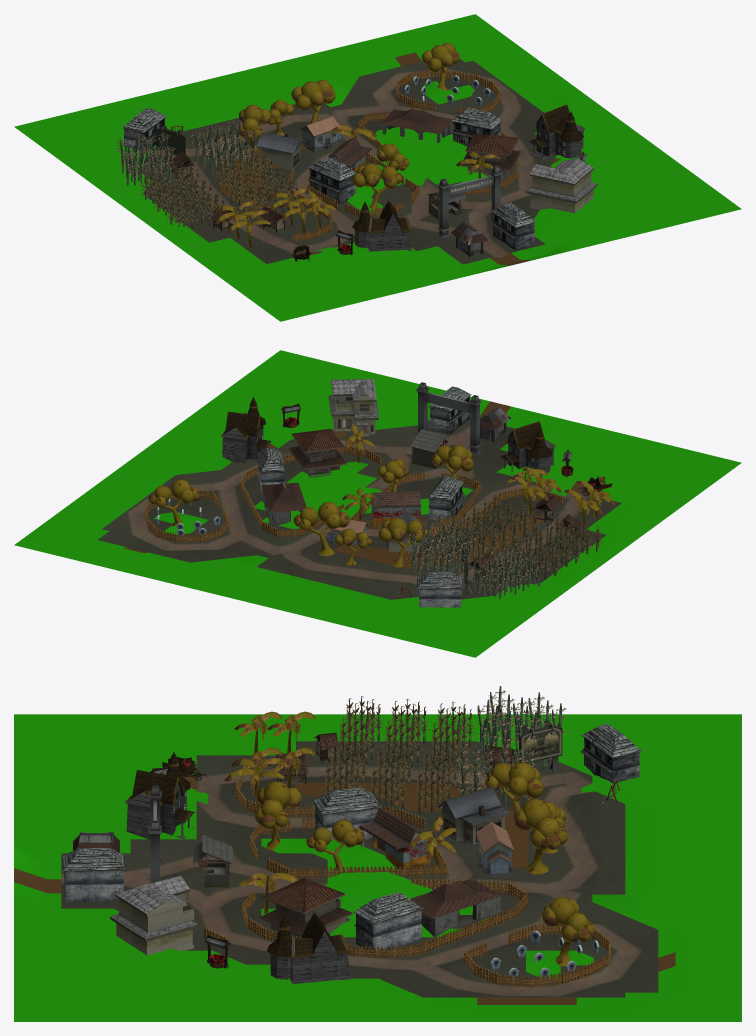
Rendered from DesaMap.fbx.
The picture shows the model from 3 angles, top to bottom: view 1: azimuth 30°, elevation 25°; view 2: azimuth 150°, elevation 25°; view 3: azimuth 270°, elevation 25°; orthographic projection. The views are drawn at different scales.
Visible parts, largest first — view 1: Plane, Plane.001, Cube.113, Circle.027, Circle.003, Cube.004, Cube.001, Circle.004, Circle.019, Banana.008, Cube.156, Cube.002 (+21 smaller); view 2: Plane, Plane.001, Circle.027, Cube.113, Circle.003, Circle.004, Circle.019, Cube.004, Cube.156, Cube.001, Cube, Cube.007 (+18 smaller); view 3: Plane, Plane.001, Cube.113, Circle.027, Circle.003, Cube.004, Cube.001, pagar.018, Cube.012, Cube.156, Cube.003, Cube.009 (+26 smaller).
Boxes of the visible parts, <box> form: Plane: <box>14,14,741,321</box>; Plane.001: <box>142,59,556,264</box>; Cube.113: <box>526,158,597,213</box>; Circle.027: <box>141,162,225,227</box>; Circle.003: <box>214,150,302,218</box>; Cube.004: <box>529,104,584,159</box>; Cube.001: <box>352,200,411,251</box>; Circle.004: <box>115,132,175,187</box>; Circle.019: <box>191,119,257,177</box>; Banana.008: <box>213,188,323,247</box>; Cube.156: <box>460,133,521,179</box>; Cube.002: <box>307,157,356,203</box>; Plane: <box>14,350,741,657</box>; Plane.001: <box>98,418,621,599</box>; Circle.027: <box>505,513,602,580</box>; Cube.113: <box>328,379,378,436</box>; Circle.003: <box>441,493,540,557</box>; Circle.004: <box>467,538,543,599</box>; Circle.019: <box>406,514,478,573</box>; Cube.004: <box>221,397,271,463</box>; Cube.156: <box>288,428,346,477</box>; Cube.001: <box>500,421,555,475</box>; Cube: <box>416,382,481,454</box>; Cube.007: <box>417,572,463,607</box>; Plane: <box>14,714,741,1021</box>; Plane.001: <box>61,741,658,997</box>; Cube.113: <box>110,876,197,955</box>; Circle.027: <box>336,696,476,769</box>; Circle.003: <box>320,741,461,814</box>; Cube.004: <box>267,912,350,984</box>; Cube.001: <box>125,751,195,839</box>; pagar.018: <box>241,877,528,958</box>; Cube.012: <box>410,878,502,937</box>; Cube.156: <box>259,877,352,937</box>; Cube.003: <box>353,892,423,953</box>; Cube.009: <box>61,847,126,902</box>.
Bounding box in the file's own units: 200 × 31.86 × 200.
